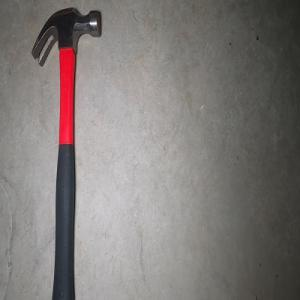Hammer: (31, 6, 102, 300)
